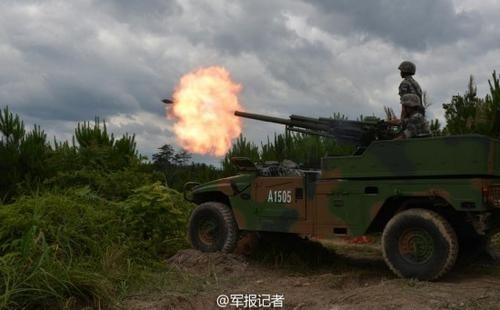fire: (167, 63, 244, 155)
